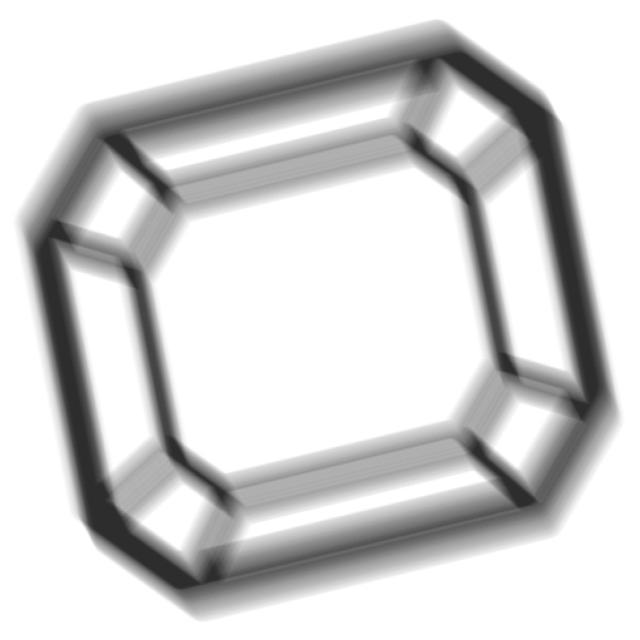emerald: (16, 16, 627, 629)
